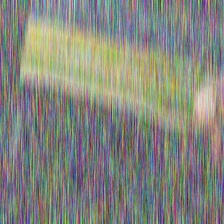Leaf_Blast: (27, 41, 213, 111)
